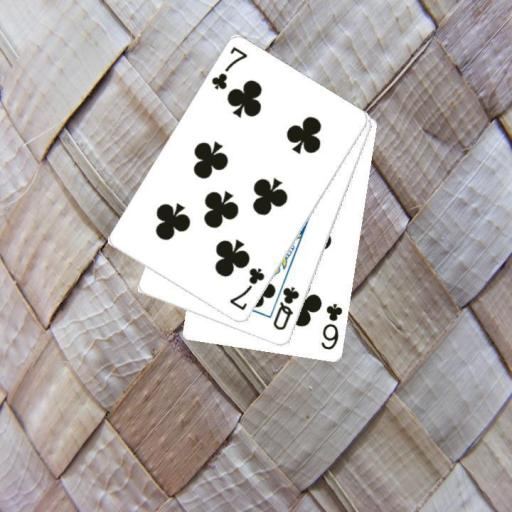card-corner: (208, 43, 249, 92), (226, 265, 267, 312), (269, 283, 301, 332), (318, 301, 344, 352)
